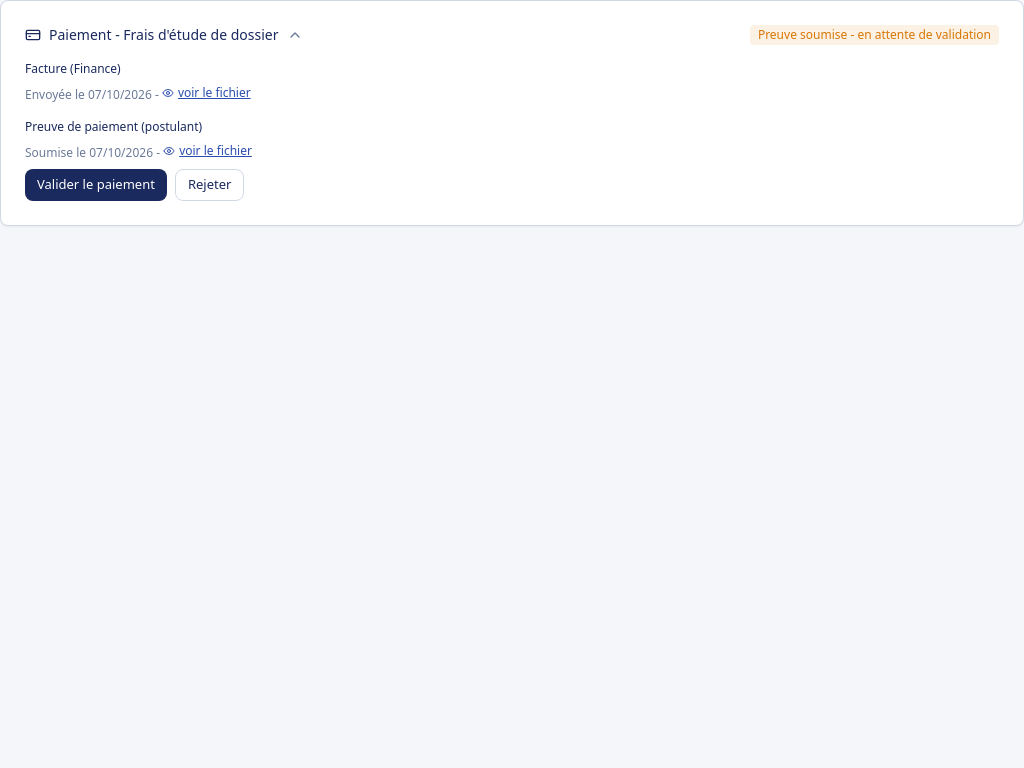
M5 payment card - final rejection of the dossier › Retour cancels: nothing sent, the form keeps its choice and reason
The width and height of the screenshot is (1024, 768).
Step 1. Click the button "Rejeter" → (210, 185), box [175, 169, 244, 201]
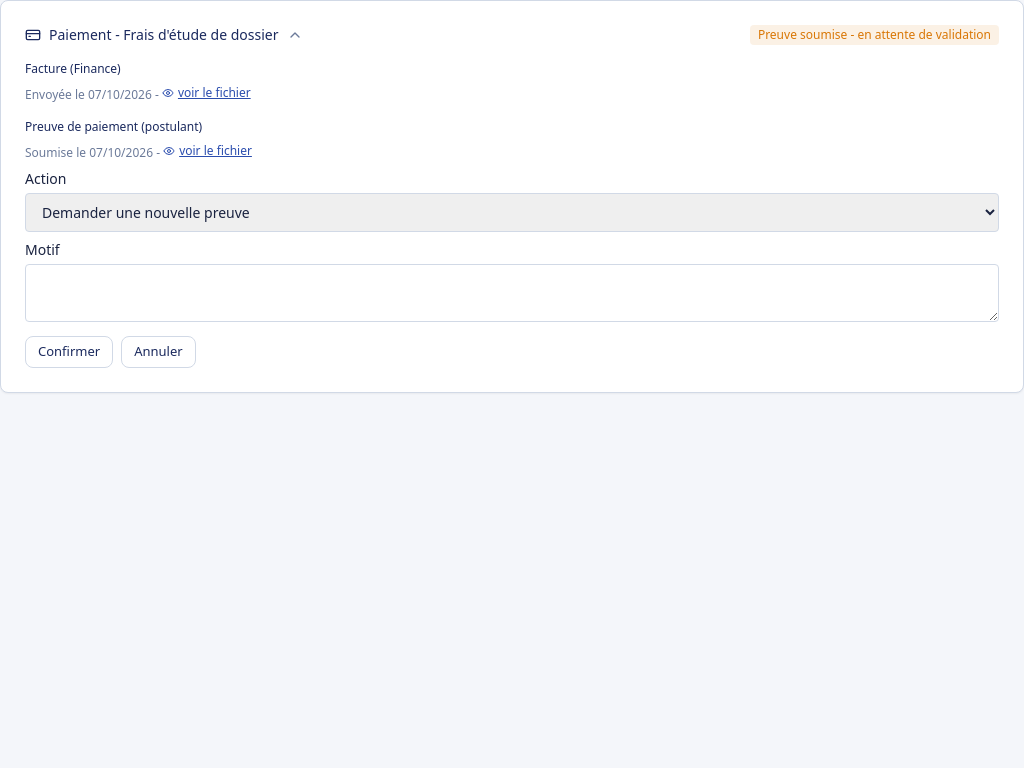
Step 2. Select "Rejeter le dossier (annulation définitive)" in the dropdown labelled "Action" → (512, 212), box [25, 193, 999, 232]
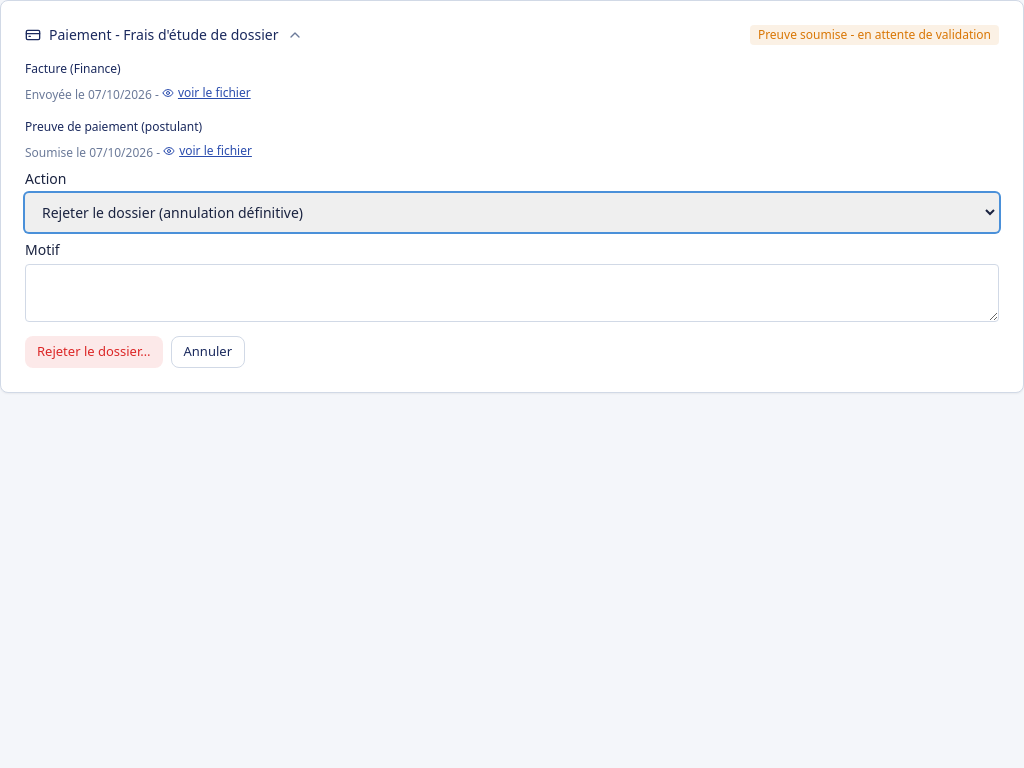
Step 3. Type "Quittance falsifiée : la référence bancaire n'existe pas." into the text box labelled "Motif" → (512, 293), box [25, 264, 999, 322]
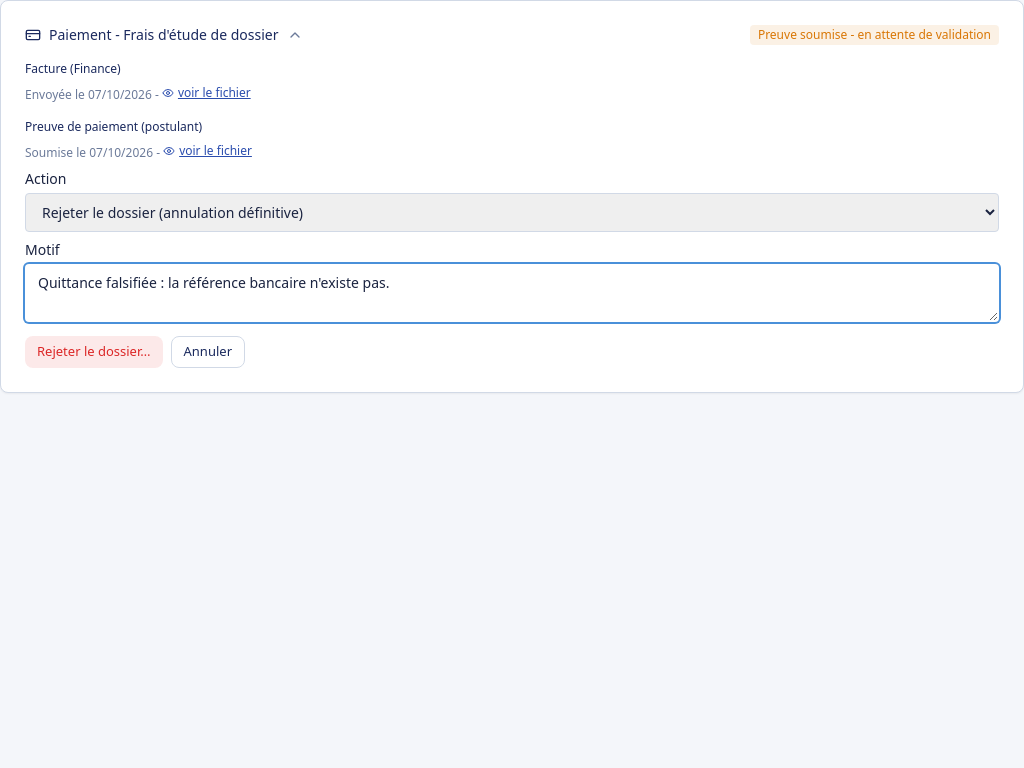
Step 4. Click the button "Rejeter le dossier…" → (94, 352), box [25, 336, 162, 368]
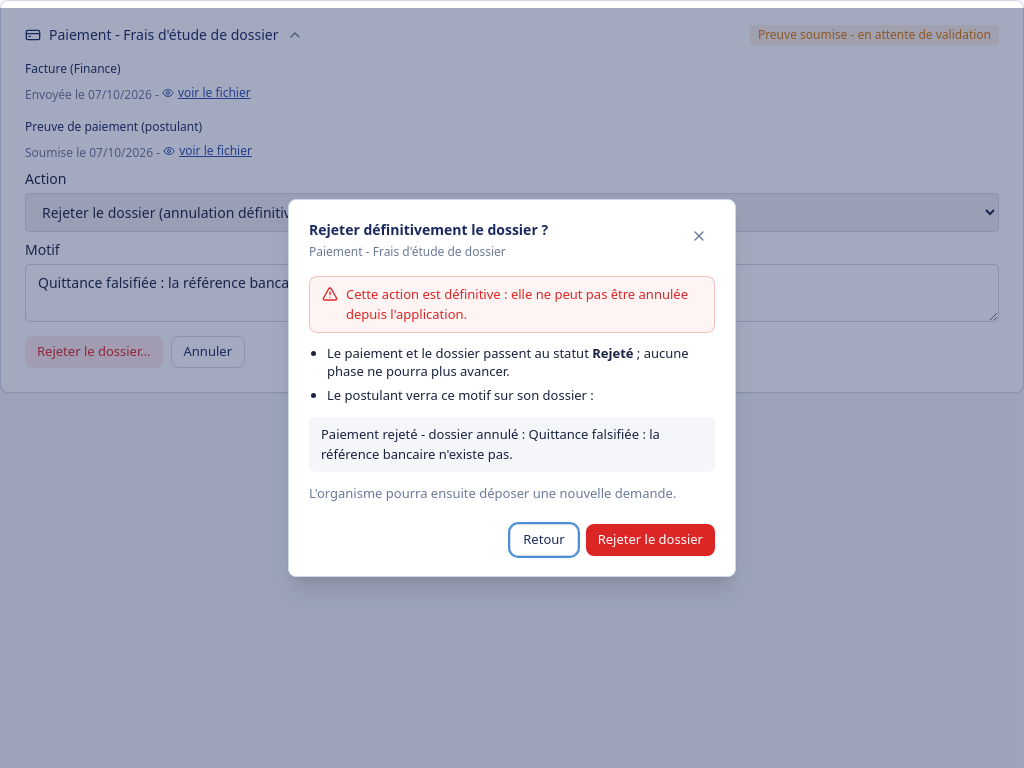
Step 5. Click the button "Retour" → (544, 540), box [510, 524, 578, 556]
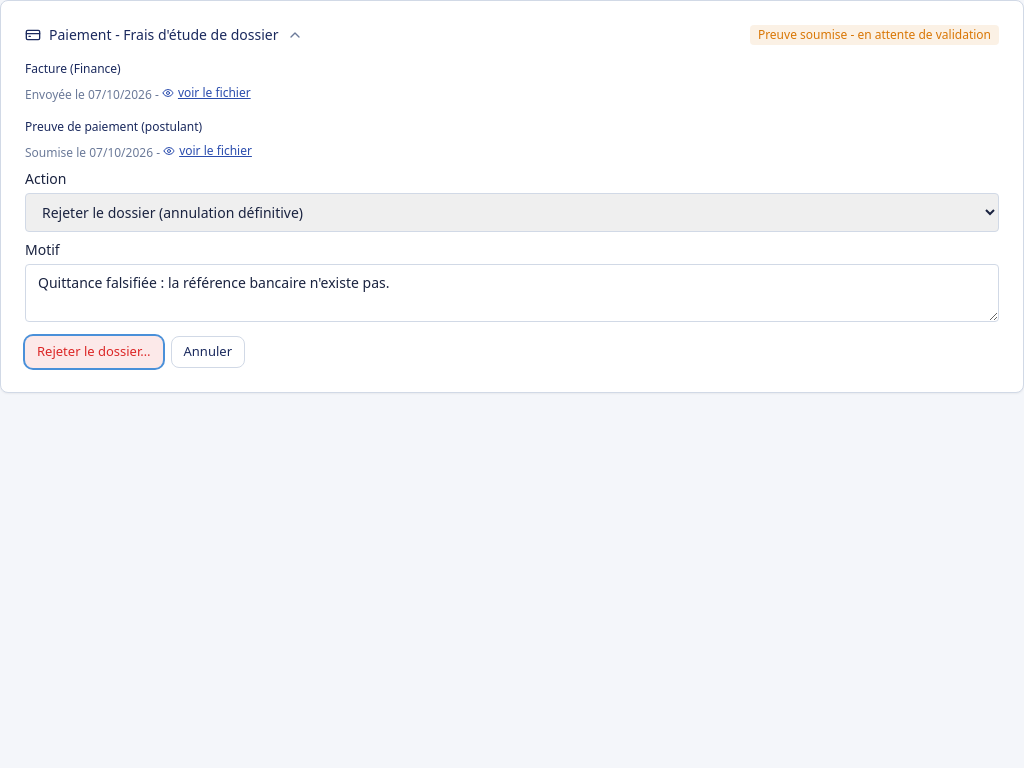
expect the dialog is gone: met
